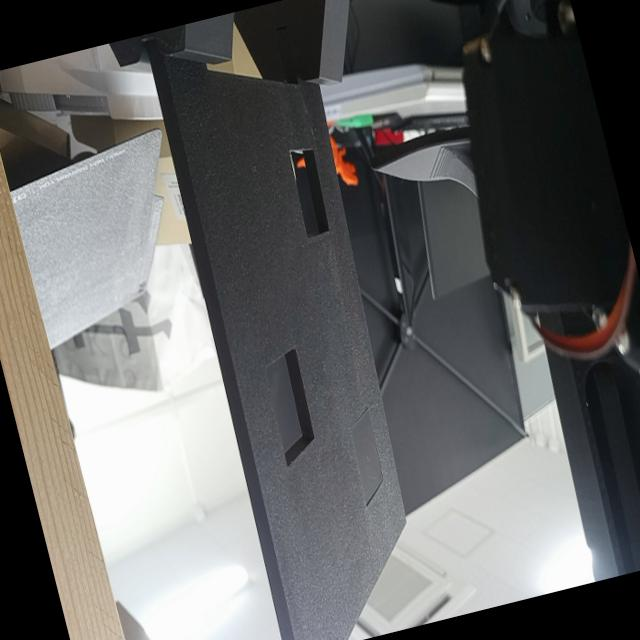Obstacle: (266, 349, 314, 468), (290, 148, 330, 238)
Wall: (161, 56, 407, 640)
